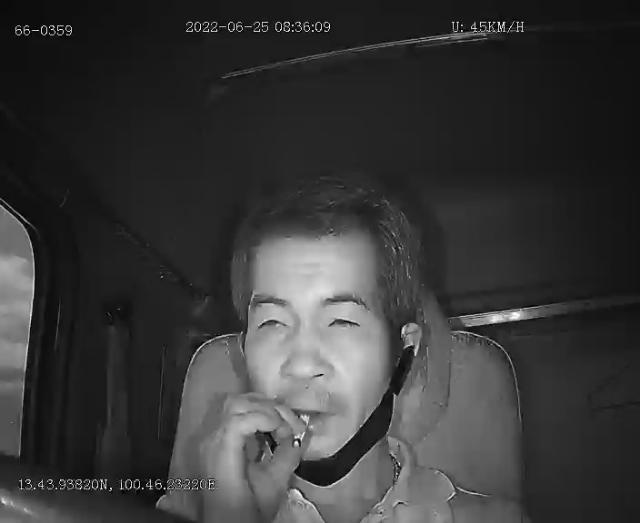SafeDriving: (319, 302, 368, 338), (252, 304, 296, 338)
Smoking: (292, 415, 312, 451)
